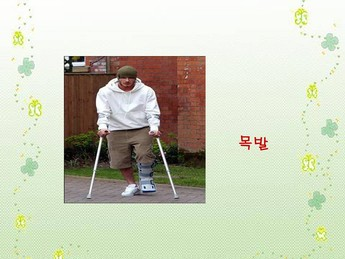crutches: (86, 65, 179, 200)
